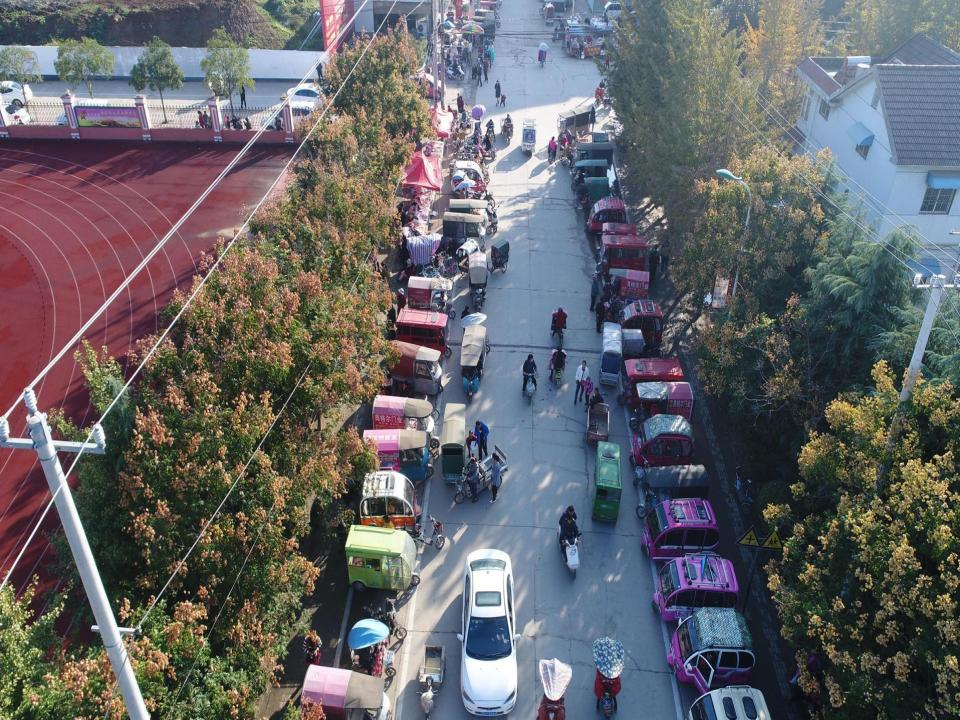car: (456, 543, 522, 719), (260, 98, 320, 138), (52, 98, 118, 134), (284, 82, 336, 118), (399, 73, 446, 101)
